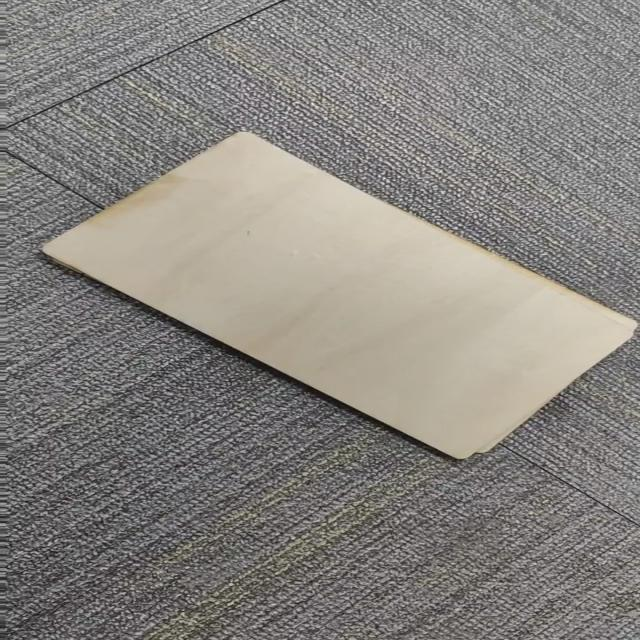carton: (44, 133, 636, 458)
